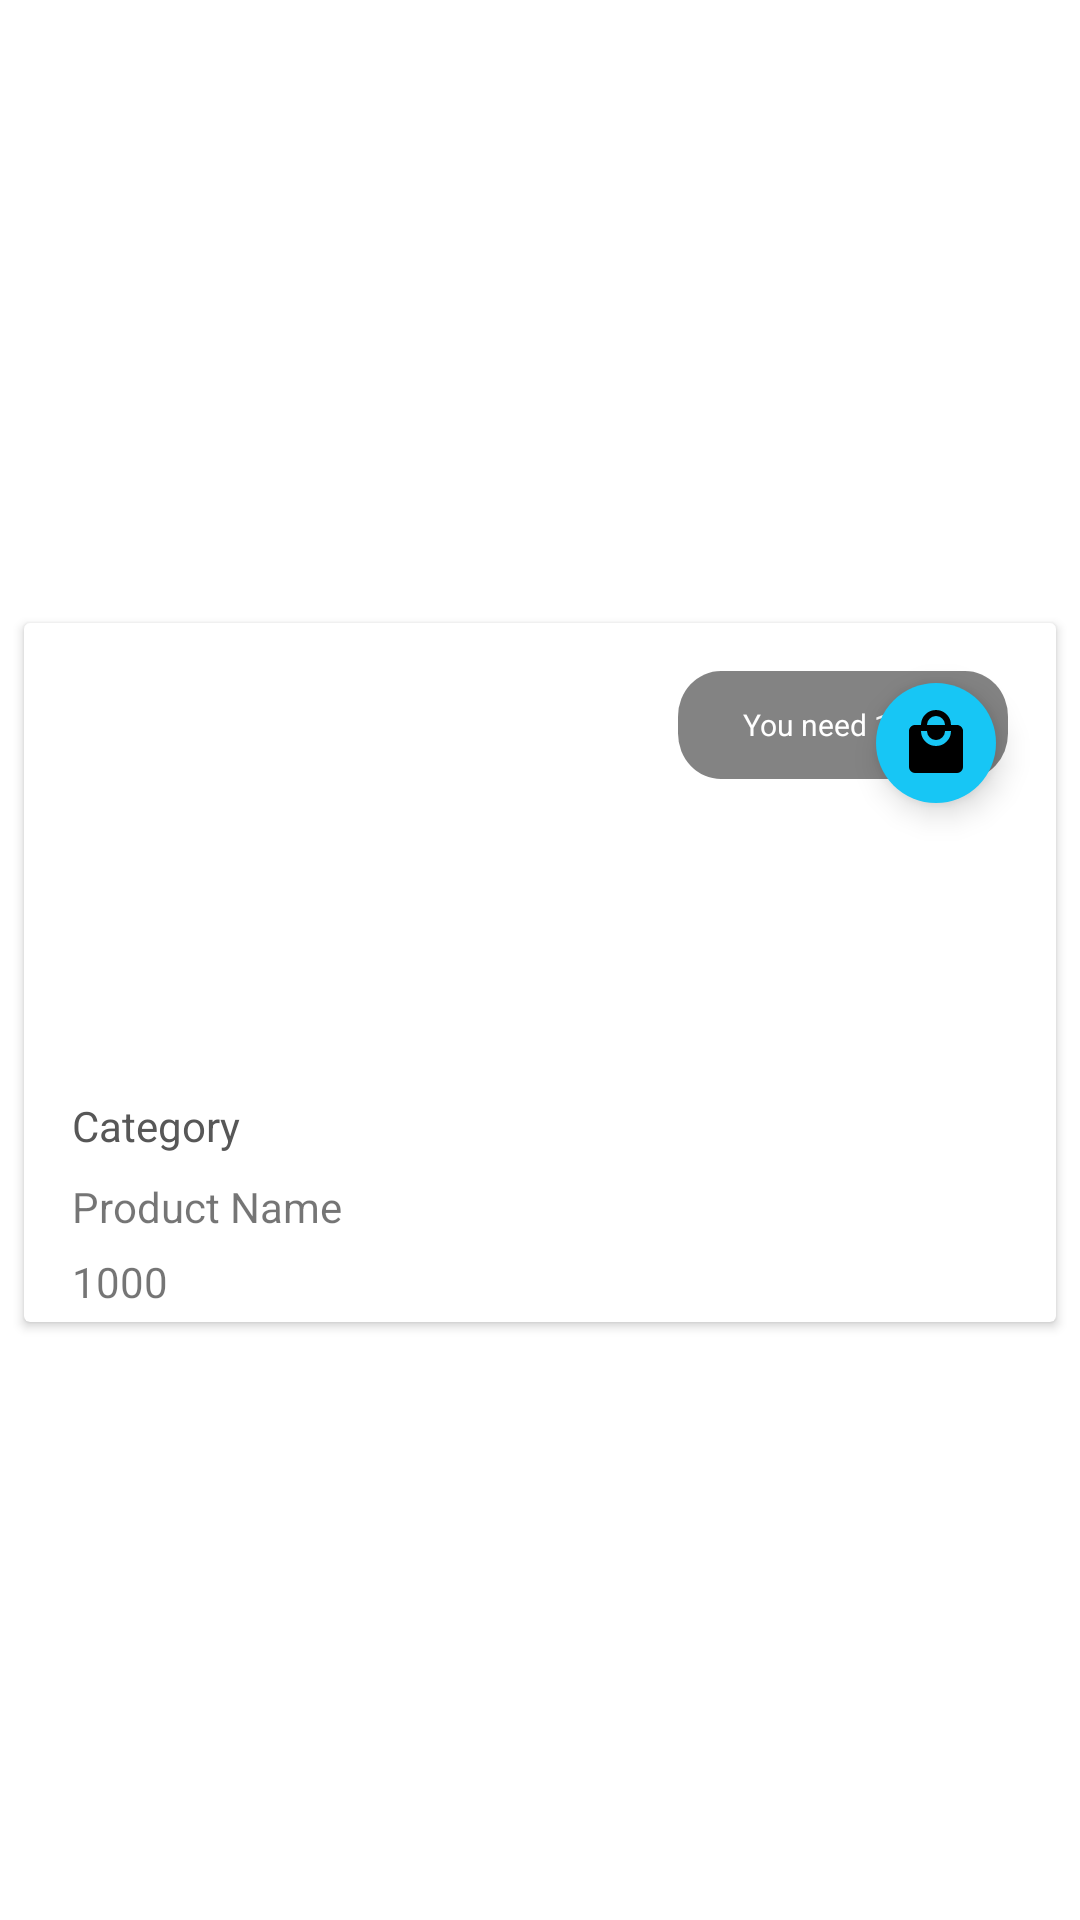

Named icons in this screenshot (1080 × 1920) and their bounding boxes, [left=x1, top=y1, right=x2, bottom=y2]:
shopping: [left=864, top=671, right=1008, bottom=808]
